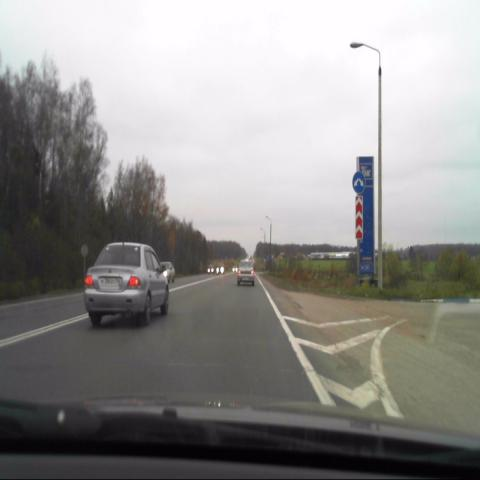4_2_3: (352, 170, 366, 194)
